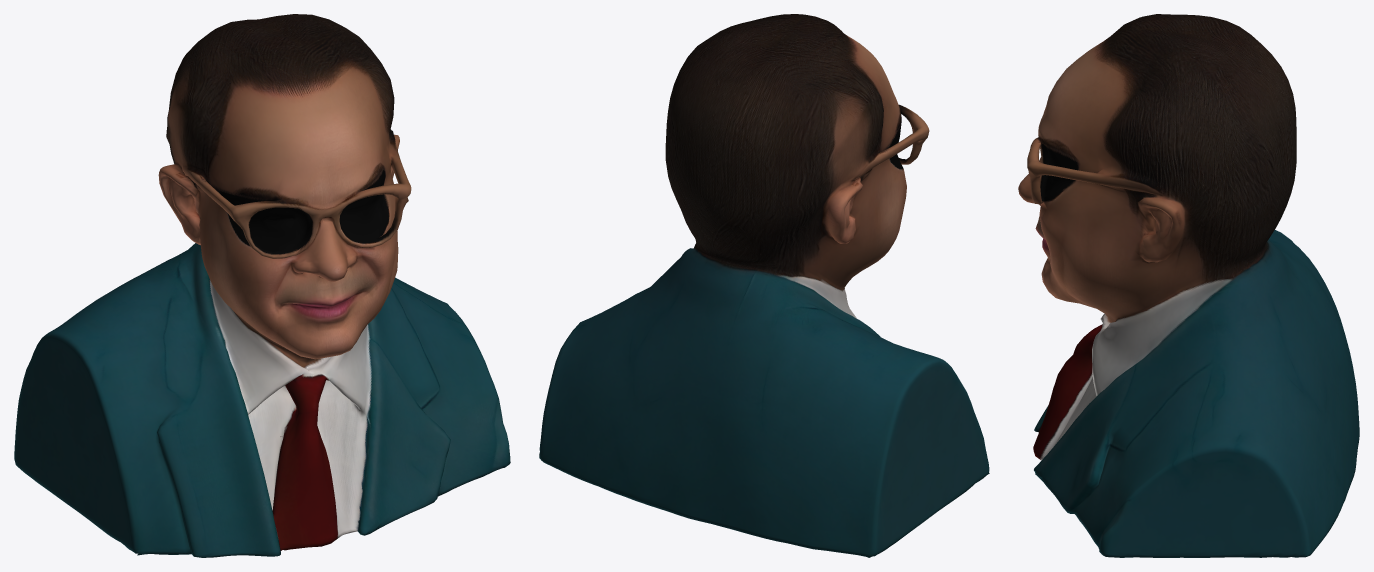
The model's file is hatta.glb.
3 views of the same model, side by side, from view 1: azimuth 30°, elevation 25°; view 2: azimuth 150°, elevation 25°; view 3: azimuth 270°, elevation 25° (orthographic). The views are drawn at different scales.
Parts seen in each view (by area): view 1: model; view 2: model; view 3: model.
Part boxes in pixels (x1,y1,x2,y2): model: (14, 14, 510, 557); model: (539, 14, 989, 557); model: (1018, 14, 1359, 557).
Size of the model in its own units: 1.63 by 1.9 by 1.33.
Materials: 1 (1 with a texture image).
